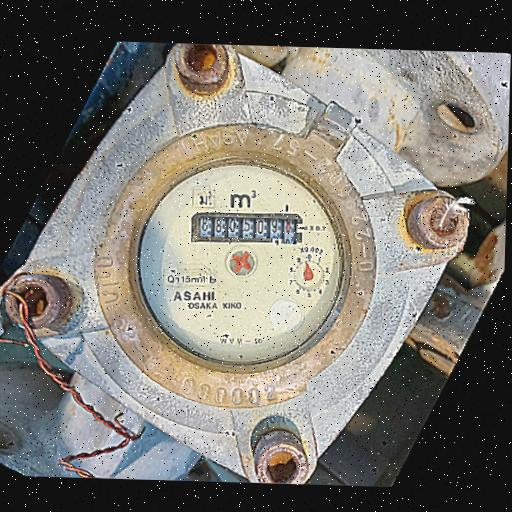0: (256, 217, 267, 237), (229, 217, 238, 237)
5: (242, 216, 253, 237)
8: (199, 216, 212, 236), (284, 218, 293, 243), (214, 217, 225, 237)
9: (270, 217, 281, 238)
border_water_meter_number: (191, 210, 304, 245)
